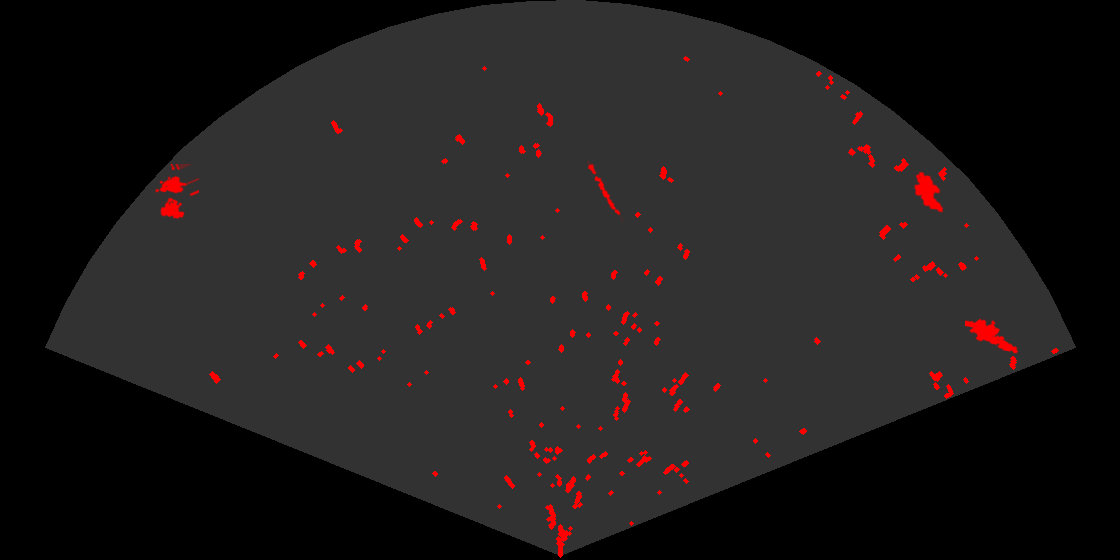AUV: (913, 170, 945, 214)
cage: (153, 164, 199, 221)
chain: (585, 161, 623, 223)
frogman: (965, 317, 1020, 355)
